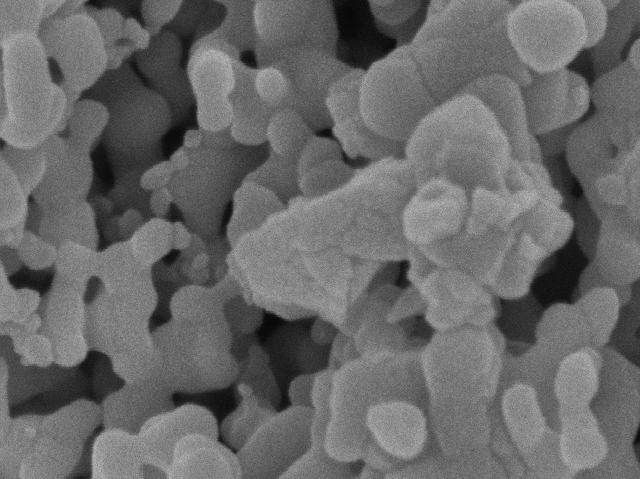nano: (254, 66, 289, 105)
